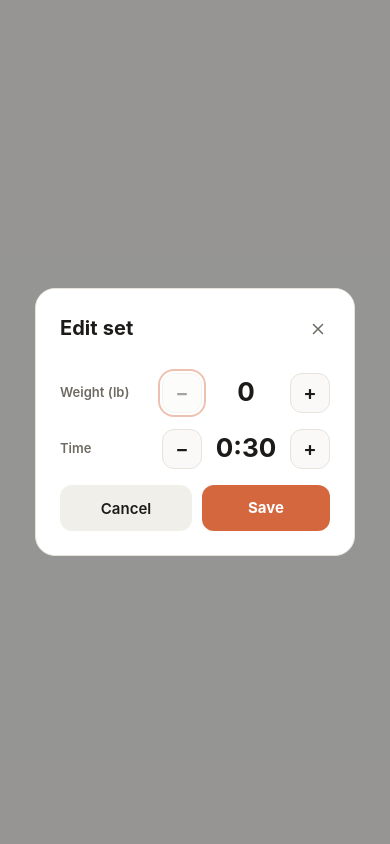
Scenario: EditSetModal › a duration-tracked set › steps the time down to 0:00 instead of parking on 0:01
Click the button titled "Decrease Time" next to "Time".
click(182, 449)  # box [162, 429, 202, 469]
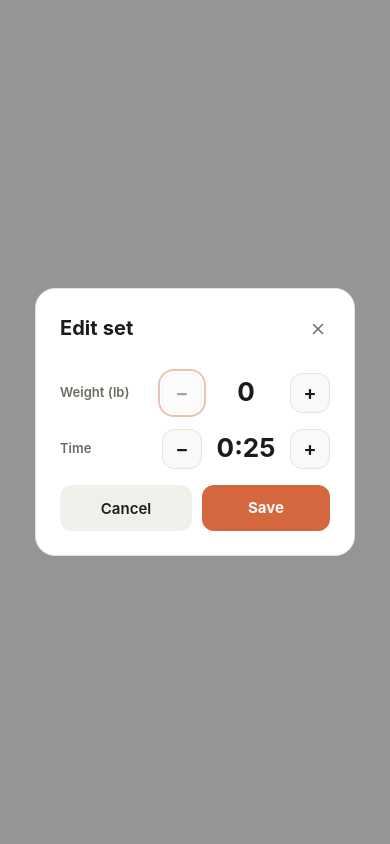
Check: the field named "Time" holds "0:25", box [214, 432, 278, 465]
Click the button titled "Decrease Time" next to "Time".
click(182, 449)  # box [162, 429, 202, 469]
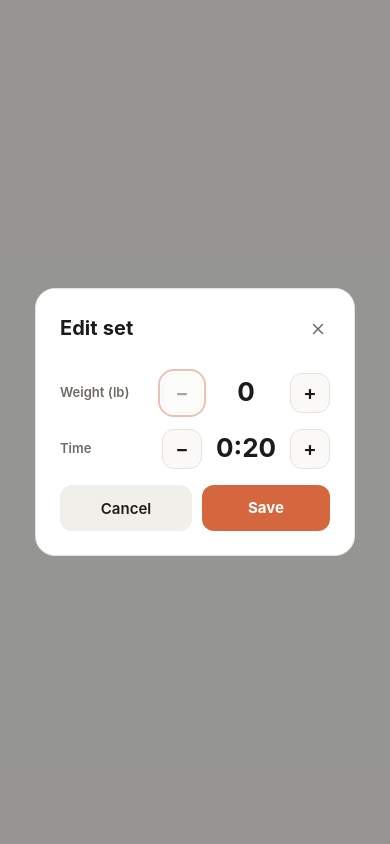
Click the button titled "Decrease Time" next to "Time".
click(182, 449)  # box [162, 429, 202, 469]
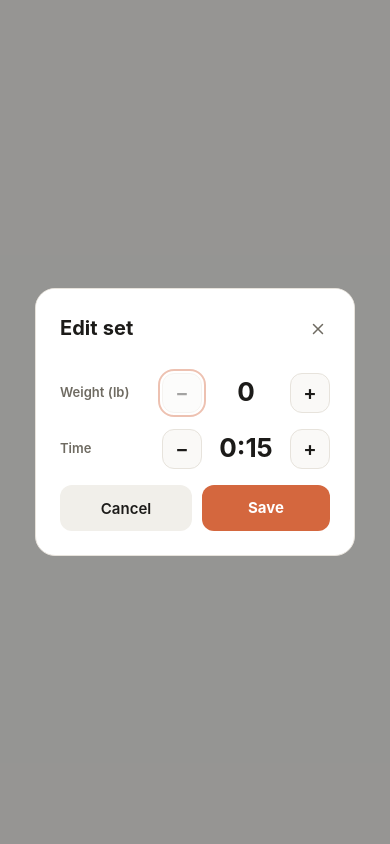
Click the button titled "Decrease Time" next to "Time".
click(182, 449)  # box [162, 429, 202, 469]
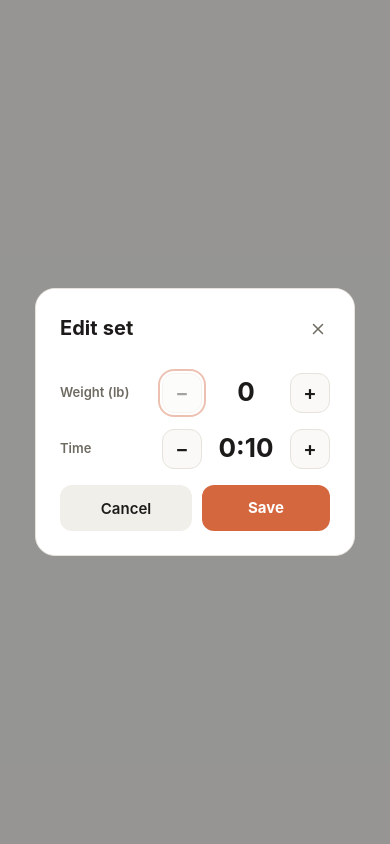
Click the button titled "Decrease Time" next to "Time".
click(182, 449)  # box [162, 429, 202, 469]
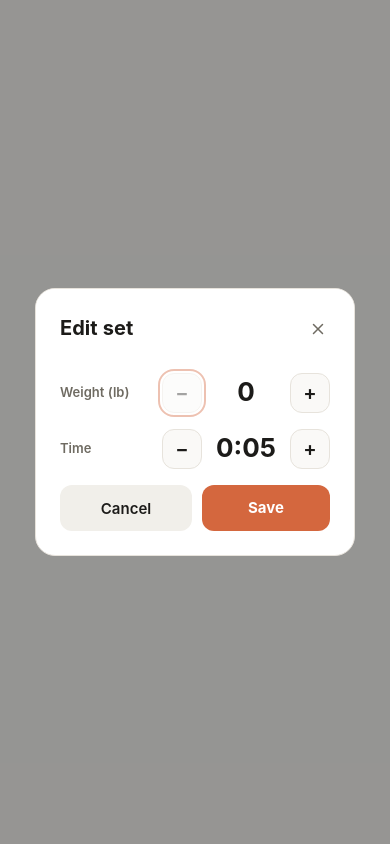
Click the button titled "Decrease Time" next to "Time".
click(182, 449)  # box [162, 429, 202, 469]
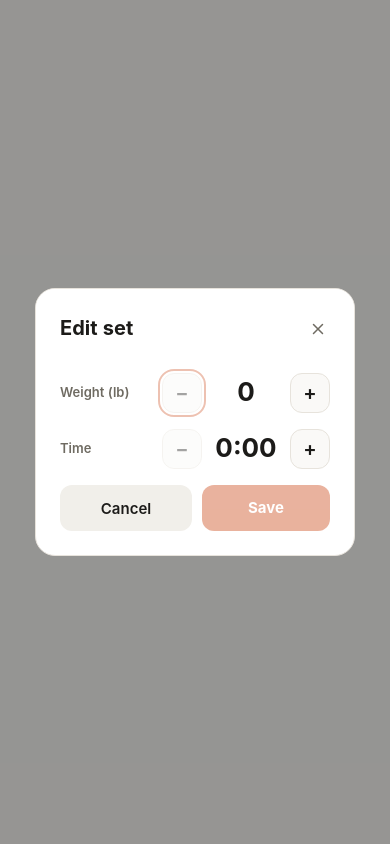
Check: the field named "Time" holds "0:00", box [214, 432, 278, 465]
